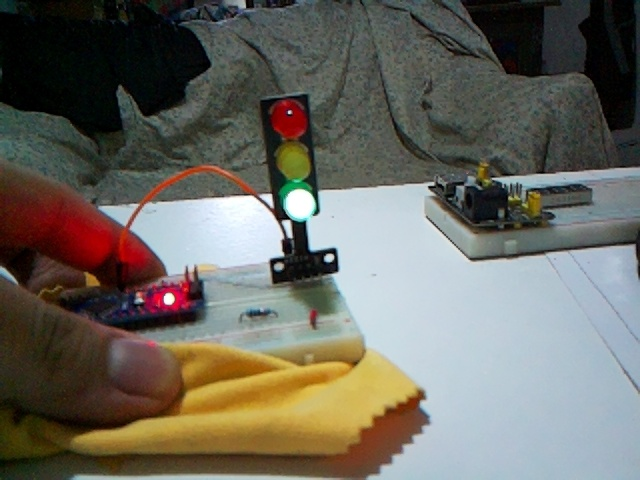traffic_light_green: (260, 94, 319, 222)
